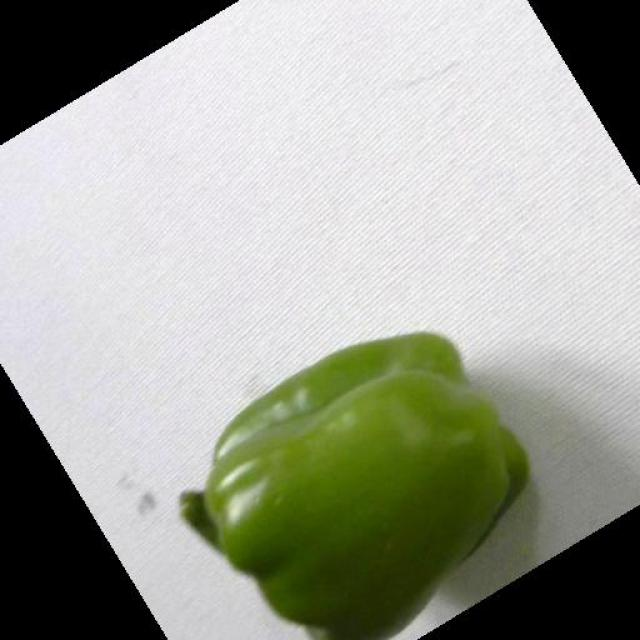Fresh_Capsicum: (180, 326, 543, 640)
